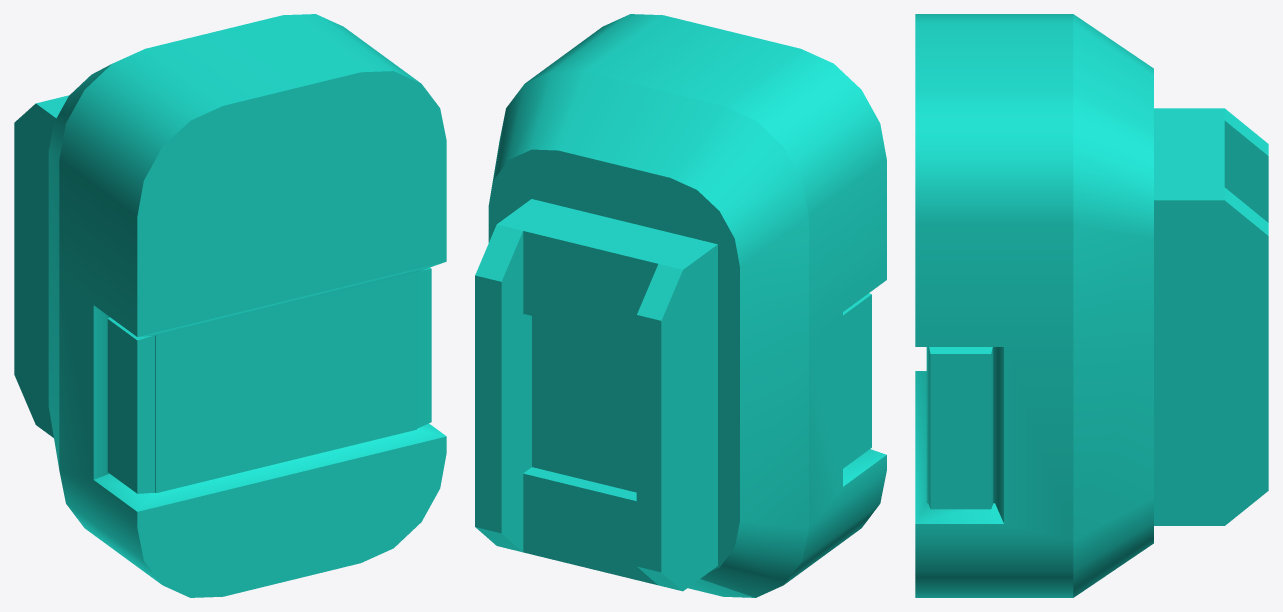
Rendered from Cable_Port.fbx.
3 views of the same model, side by side, from view 1: azimuth 30°, elevation 25°; view 2: azimuth 150°, elevation 25°; view 3: azimuth 270°, elevation 25° (orthographic).
Parts seen in each view (by area): view 1: Cable_Port; view 2: Cable_Port; view 3: Cable_Port.
Part boxes in pixels (<box>): Cable_Port: <box>14,14,446,597</box>; Cable_Port: <box>475,14,886,597</box>; Cable_Port: <box>915,14,1268,597</box>.
Size of the model in its own units: 132 by 200 by 129.
